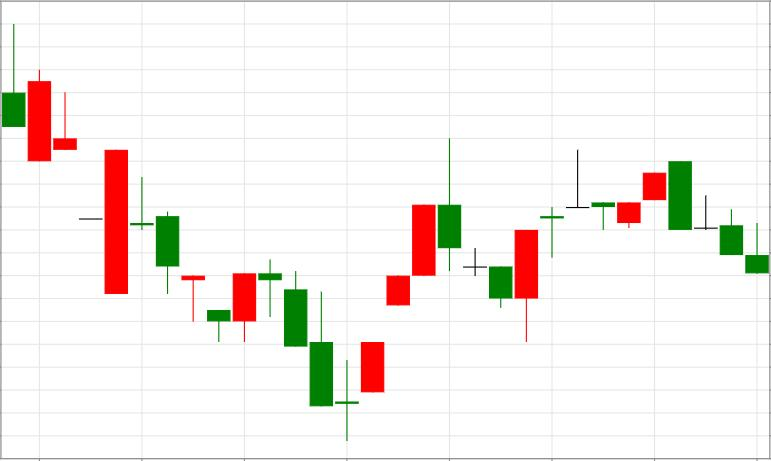bearish_engulfing_fall: (514, 150, 692, 342)
bullish_engulfing_rise: (130, 176, 256, 343), (438, 138, 538, 342)
three_white_soldiers_rise: (259, 204, 436, 441)
